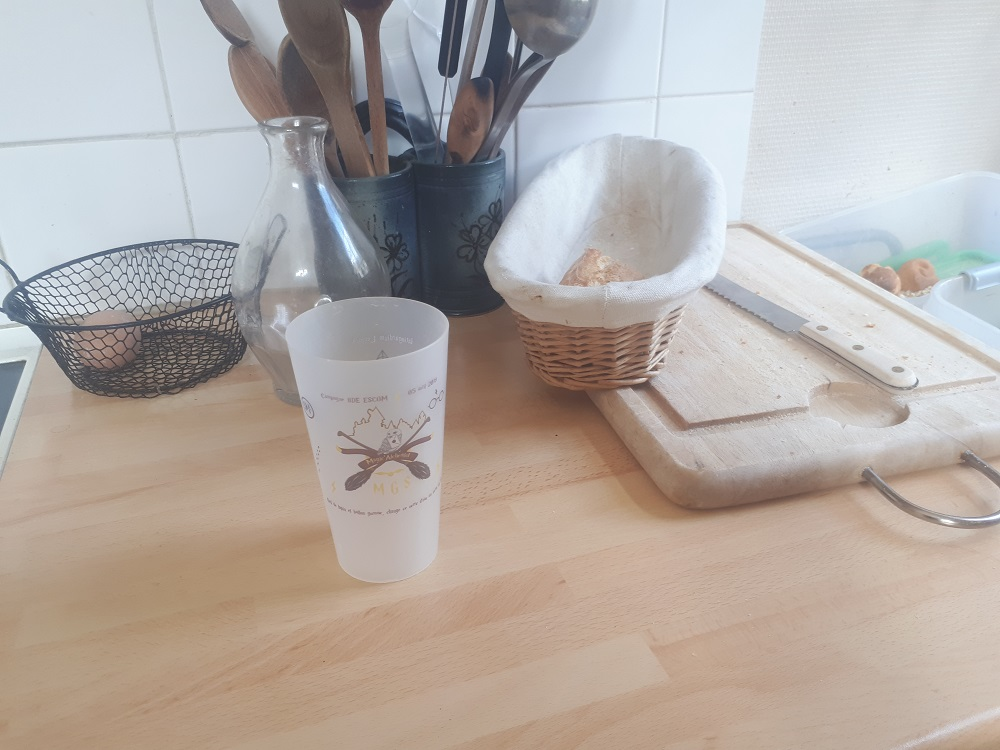ecocup: (286, 296, 450, 581)
